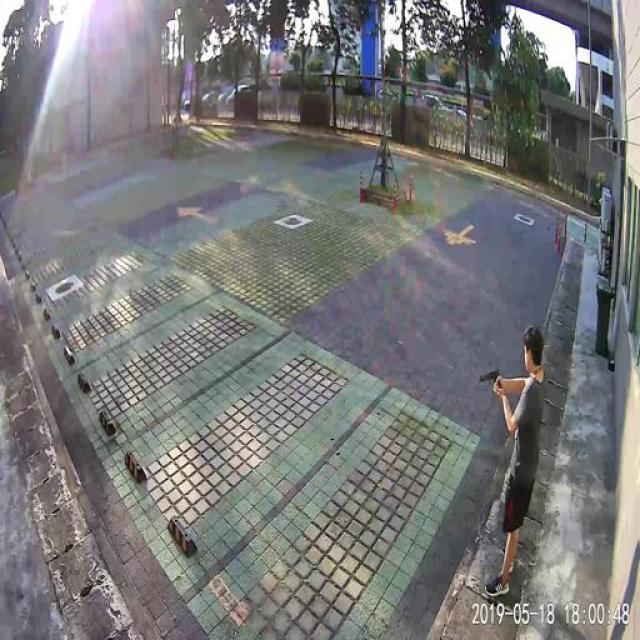Gun: (476, 364, 502, 395)
